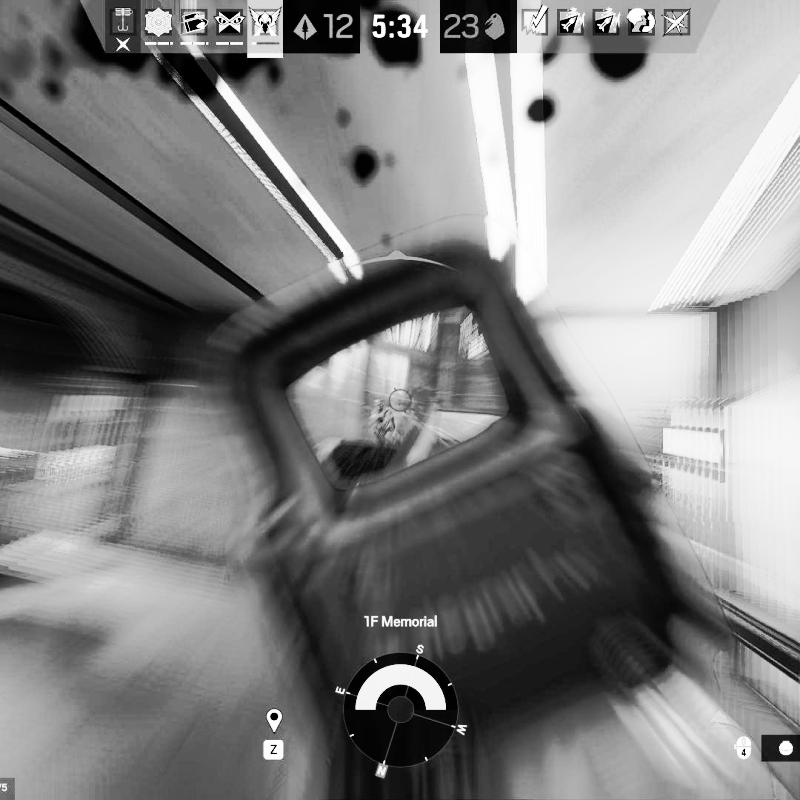Character: (370, 399, 401, 449)
Head: (373, 398, 386, 414)
